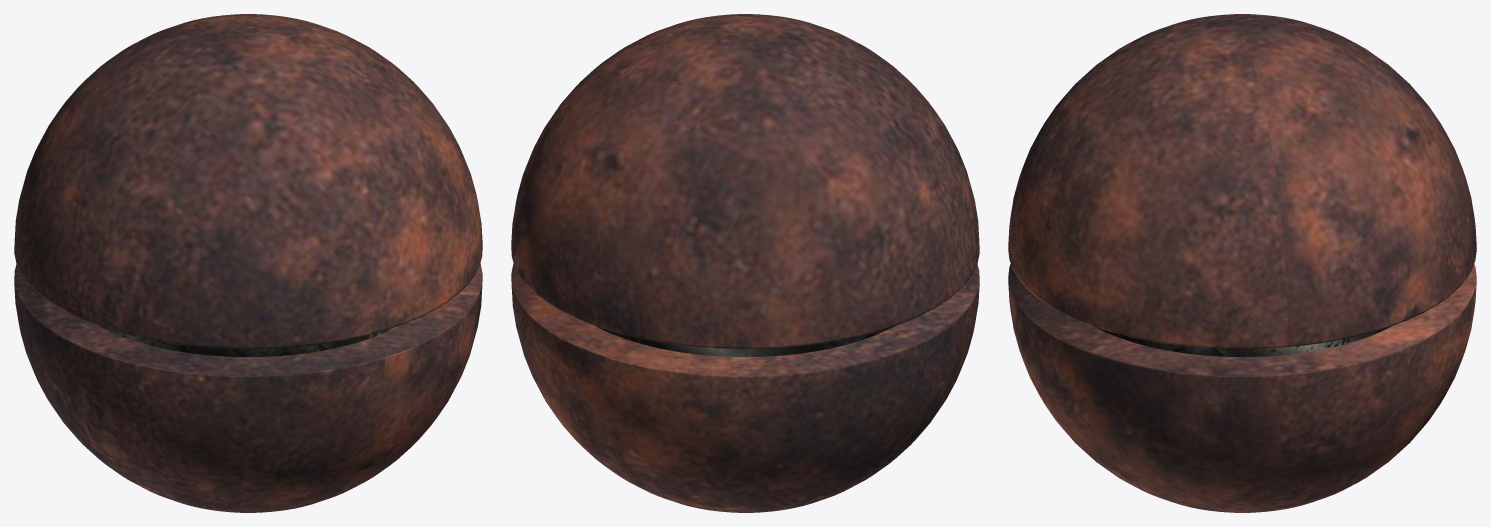
Rendered from droid_anim_000003.obj.
The picture shows the model from 3 angles, left to right: view 1: azimuth 30°, elevation 25°; view 2: azimuth 150°, elevation 25°; view 3: azimuth 270°, elevation 25°; orthographic projection.
Parts seen in each view (by area): view 1: Sphere.004, Sphere.005, Cylinder.002; view 2: Sphere.004, Sphere.005, Cylinder.002; view 3: Sphere.004, Sphere.005, Cylinder.002.
Boxes of the visible parts, left/top/right/bottom form: Sphere.004: left=14, top=14, right=482, bottom=348; Sphere.005: left=14, top=263, right=482, bottom=512; Cylinder.002: left=99, top=326, right=397, bottom=356; Sphere.004: left=511, top=14, right=979, bottom=348; Sphere.005: left=511, top=263, right=979, bottom=512; Cylinder.002: left=596, top=326, right=894, bottom=356; Sphere.004: left=1008, top=14, right=1476, bottom=348; Sphere.005: left=1008, top=264, right=1476, bottom=512; Cylinder.002: left=1094, top=326, right=1390, bottom=356.
Bounding box in the file's own units: 2 × 2.14 × 2.
Materials: 3 (3 with a texture image).
